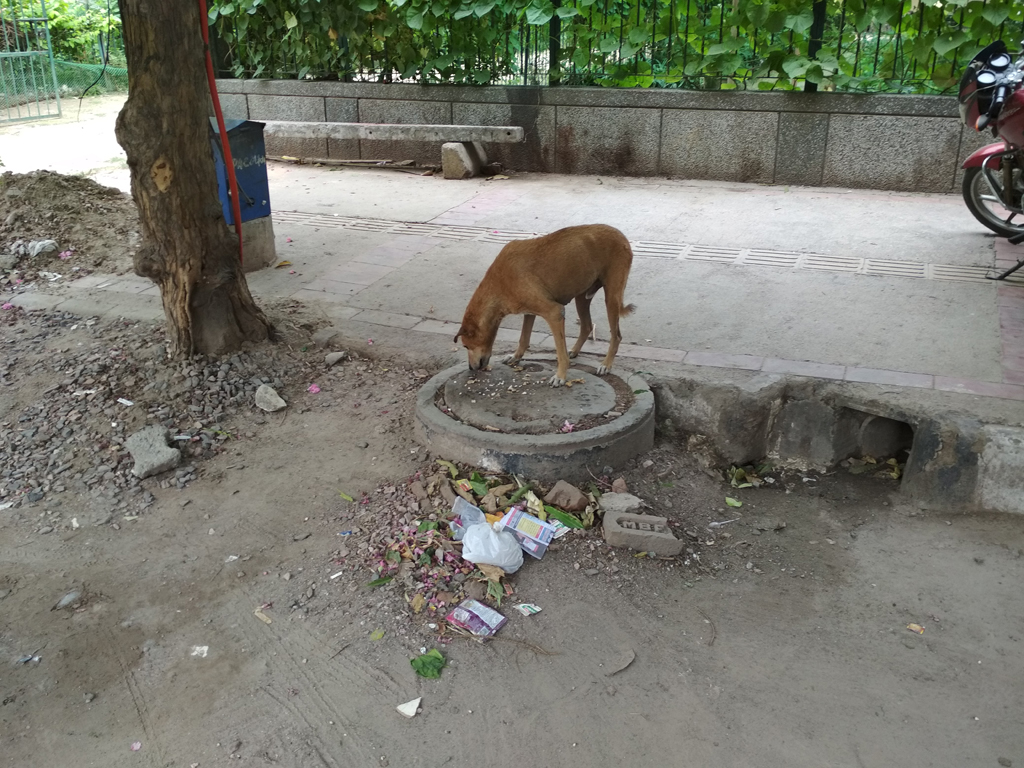dog: (454, 224, 639, 388)
